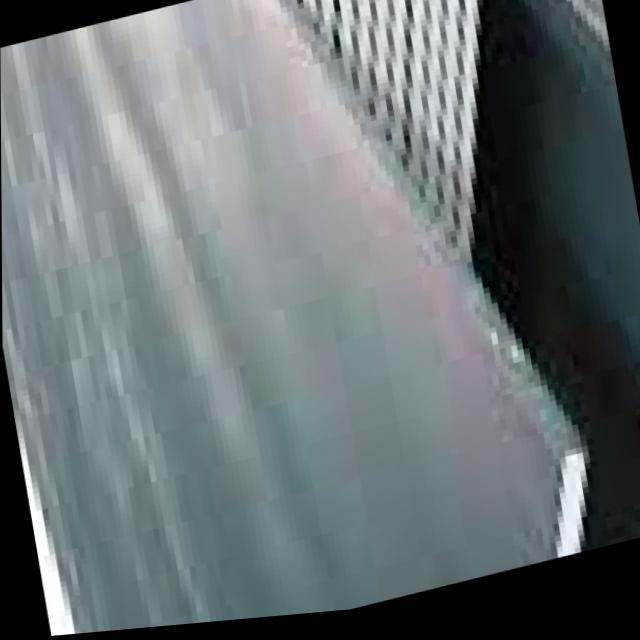metal-plates: (1, 1, 640, 636)
